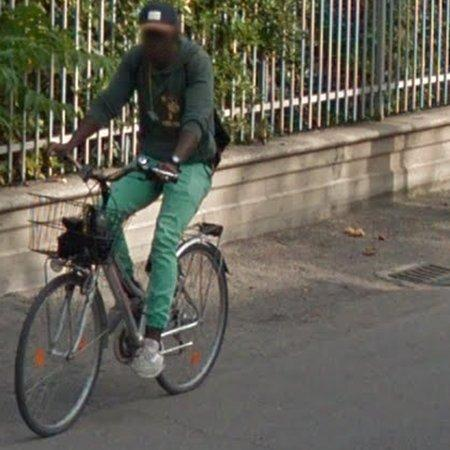bicycles: (15, 156, 176, 437), (157, 223, 228, 395)
